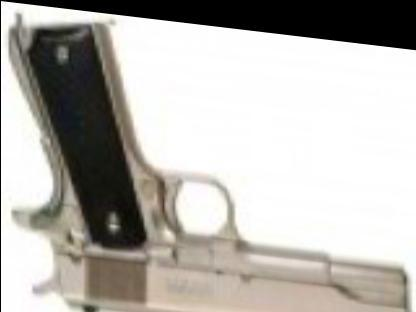pistol: (11, 14, 412, 311)
